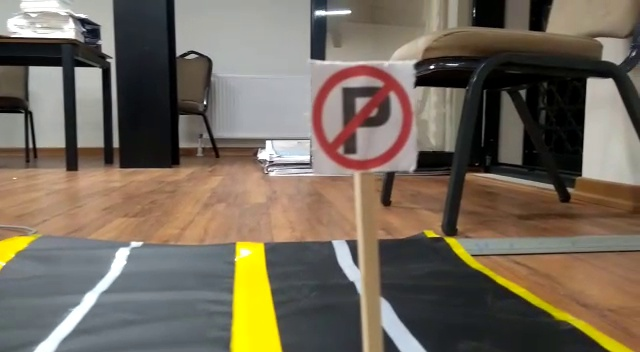park_yapilmaz: (309, 60, 415, 170)
